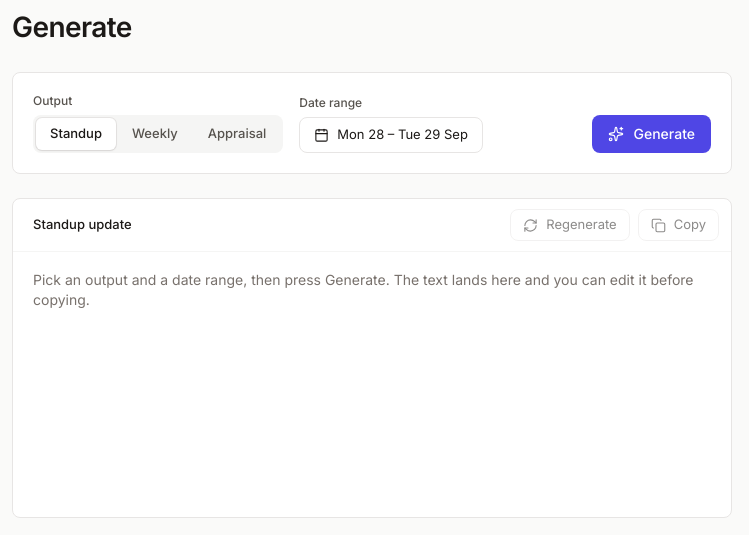
Scenario: GeneratorPanel › shows the empty state when the range has no entries
This screenshot has width=749, height=535.
Click the button "Generate": x=651, y=134 [592,115,711,153]
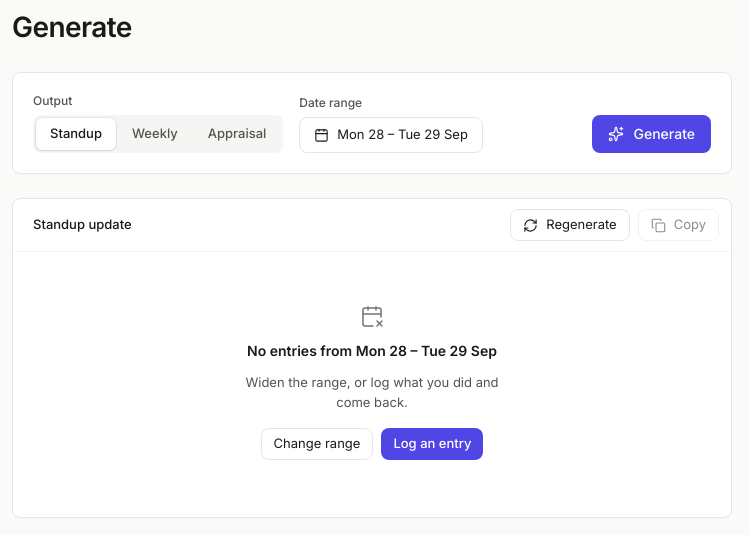
Check: the text "No entries from Mon 28 – Tue 29 Sep" is shown, box [247,341,497,361]
